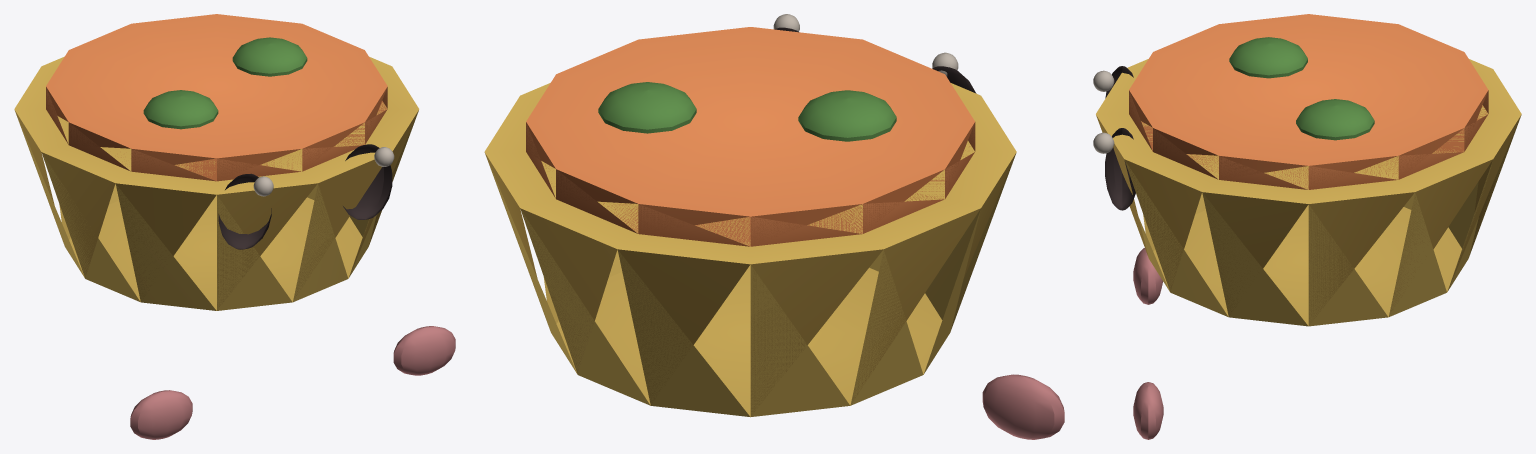
3 renders of one model, left to right at view 1: azimuth 30°, elevation 25°; view 2: azimuth 150°, elevation 25°; view 3: azimuth 270°, elevation 25°, orthographic. The views are drawn at different scales.
Visible parts, largest first — view 1: pet_pa658836d; view 2: pet_pa658836d; view 3: pet_pa658836d.
Boxes of the visible parts, <box> form: pet_pa658836d: <box>14,14,455,439</box>; pet_pa658836d: <box>484,14,1064,439</box>; pet_pa658836d: <box>1093,14,1521,439</box>.
Bounding box in the file's own units: 0.32 × 0.2452 × 0.3219.
